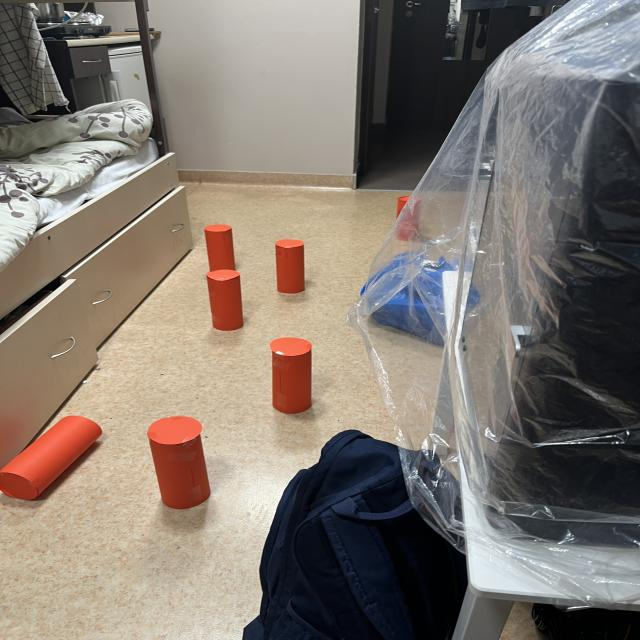przeszkoda: (0, 416, 102, 500), (147, 417, 210, 509), (270, 338, 311, 414), (207, 269, 243, 330), (275, 239, 305, 293), (204, 224, 235, 271)
